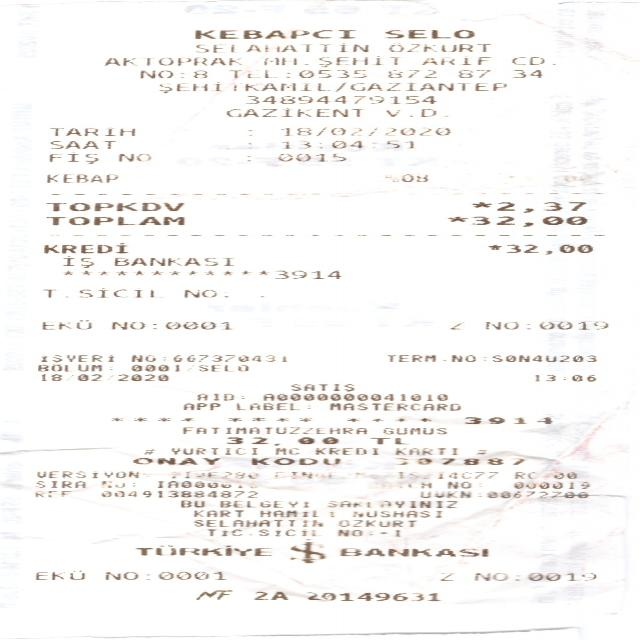text: (157, 81, 505, 93), (189, 42, 369, 52), (134, 544, 270, 556), (273, 471, 495, 478), (279, 126, 449, 135), (244, 95, 435, 103), (448, 215, 584, 226), (180, 426, 366, 434), (194, 29, 352, 38), (336, 547, 490, 556), (224, 107, 360, 117), (261, 393, 445, 400), (418, 490, 598, 497), (487, 243, 591, 255), (471, 201, 584, 212), (63, 270, 270, 276), (103, 56, 240, 65), (483, 320, 606, 330), (228, 69, 364, 78), (45, 216, 181, 225), (448, 354, 598, 362), (281, 139, 414, 148), (110, 320, 232, 329), (316, 54, 400, 67), (128, 354, 284, 361), (45, 202, 181, 210), (101, 490, 256, 497), (33, 470, 141, 480), (112, 256, 230, 265), (384, 42, 490, 52), (306, 592, 438, 600), (42, 242, 126, 254), (224, 436, 336, 445), (250, 456, 348, 466), (473, 572, 595, 580), (104, 571, 223, 579), (89, 286, 168, 298), (38, 374, 169, 381), (330, 403, 460, 410), (192, 519, 320, 526), (396, 457, 522, 464), (130, 364, 248, 371), (384, 29, 472, 38), (49, 126, 132, 135), (461, 416, 553, 424), (232, 401, 310, 410), (156, 480, 254, 487), (60, 255, 114, 267), (378, 480, 442, 490), (45, 152, 98, 164), (220, 500, 308, 507), (168, 447, 254, 454), (352, 510, 438, 517), (132, 457, 216, 464), (270, 270, 342, 278), (45, 174, 115, 182), (41, 286, 87, 298), (420, 56, 488, 64), (276, 153, 344, 161), (38, 354, 114, 361), (378, 500, 454, 507), (32, 570, 85, 580), (140, 70, 206, 78), (36, 364, 111, 371), (512, 481, 587, 488), (49, 140, 113, 148), (288, 383, 352, 391), (172, 471, 256, 477), (384, 108, 446, 116), (258, 528, 320, 536), (337, 528, 398, 536), (41, 319, 89, 329), (338, 520, 414, 526), (258, 509, 314, 517), (382, 427, 444, 434), (314, 447, 376, 454), (533, 374, 594, 381), (109, 416, 191, 421), (226, 416, 308, 421), (346, 416, 428, 421), (394, 448, 456, 454), (36, 480, 82, 488), (384, 354, 436, 361), (387, 70, 432, 78), (382, 174, 426, 182), (206, 528, 250, 536), (510, 56, 553, 64), (183, 289, 226, 297), (196, 589, 230, 599), (194, 393, 242, 400), (194, 509, 242, 516), (324, 500, 370, 507), (368, 436, 406, 444), (262, 57, 304, 64), (114, 153, 150, 161), (506, 471, 538, 480), (546, 471, 578, 480), (254, 591, 286, 600), (446, 480, 478, 488), (182, 402, 218, 409), (33, 490, 69, 497), (458, 69, 488, 77), (512, 70, 541, 77), (101, 481, 133, 487), (274, 447, 298, 454), (180, 500, 203, 507), (436, 572, 454, 580), (448, 320, 462, 330), (139, 448, 154, 454), (244, 128, 254, 136), (242, 154, 252, 162), (244, 142, 254, 148)
